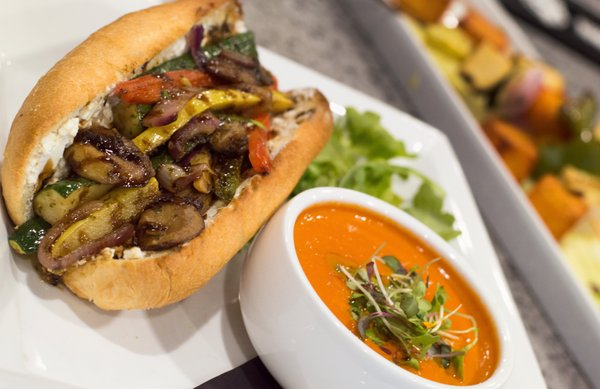soup: (1, 1, 333, 313)
sushi: (338, 0, 599, 376), (239, 187, 543, 385)
